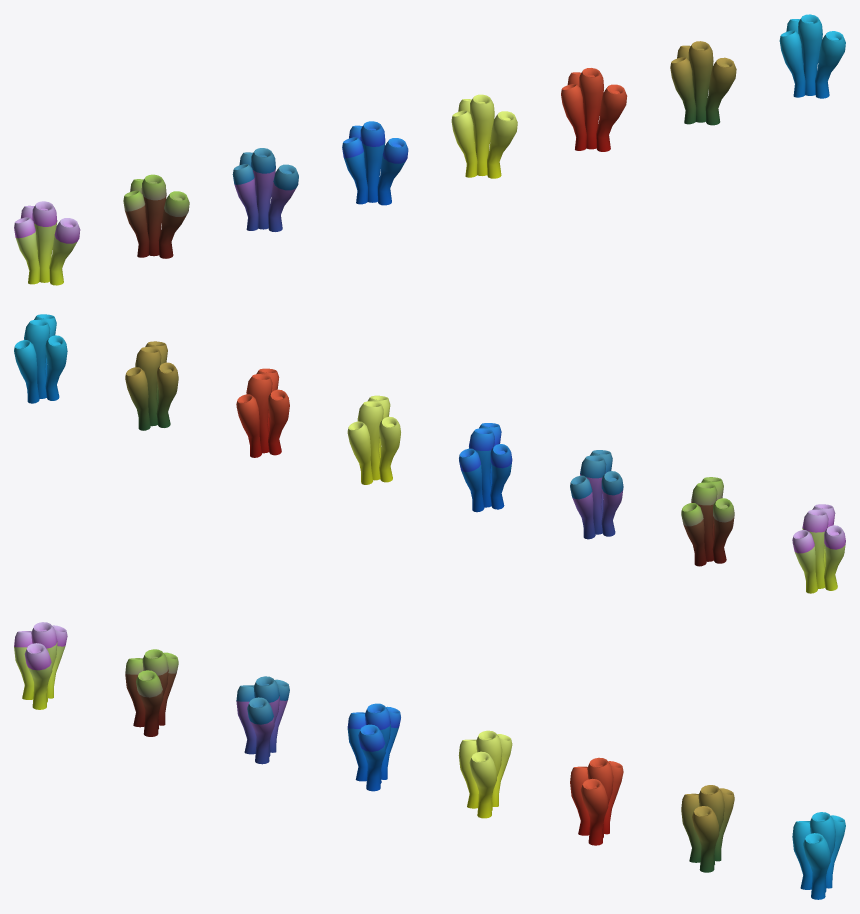
File: Coral Reef Set.glb
The picture shows the model from 3 angles, top to bottom: view 1: azimuth 30°, elevation 25°; view 2: azimuth 150°, elevation 25°; view 3: azimuth 330°, elevation 25°; orthographic projection.
Visible parts, largest first — view 1: A_CoralReef.004, A_CoralReef, A_CoralReef.005, A_CoralReef.001, A_CoralReef.007, A_CoralReef.006, A_CoralReef.003, A_CoralReef.002; view 2: A_CoralReef.004, A_CoralReef.005, A_CoralReef.006, A_CoralReef.007, A_CoralReef.002, A_CoralReef.001, A_CoralReef, A_CoralReef.003; view 3: A_CoralReef.007, A_CoralReef.005, A_CoralReef.004, A_CoralReef, A_CoralReef.006, A_CoralReef.001, A_CoralReef.002, A_CoralReef.003.
Part boxes in pixels (box(x1,y1,x2,y2)): A_CoralReef.004: box(670, 41, 736, 125); A_CoralReef: box(342, 121, 408, 205); A_CoralReef.005: box(123, 174, 189, 258); A_CoralReef.001: box(451, 94, 517, 178); A_CoralReef.007: box(232, 148, 298, 231); A_CoralReef.006: box(779, 14, 845, 98); A_CoralReef.003: box(14, 201, 80, 285); A_CoralReef.002: box(561, 68, 627, 151); A_CoralReef.004: box(125, 341, 178, 430); A_CoralReef.005: box(681, 477, 734, 566); A_CoralReef.006: box(14, 314, 67, 403); A_CoralReef.007: box(570, 450, 623, 539); A_CoralReef.002: box(236, 368, 289, 457); A_CoralReef.001: box(347, 395, 400, 484); A_CoralReef: box(459, 423, 512, 512); A_CoralReef.003: box(792, 504, 845, 593); A_CoralReef.007: box(236, 676, 289, 764); A_CoralReef.005: box(125, 649, 178, 736); A_CoralReef.004: box(681, 785, 734, 872); A_CoralReef: box(347, 703, 400, 791); A_CoralReef.006: box(792, 812, 845, 899); A_CoralReef.001: box(458, 730, 512, 818); A_CoralReef.002: box(570, 757, 623, 845); A_CoralReef.003: box(14, 622, 67, 709).
Bounding box in the file's own units: 7.44 × 0.6518 × 0.6235.
Materials: 1 (1 with a texture image).
